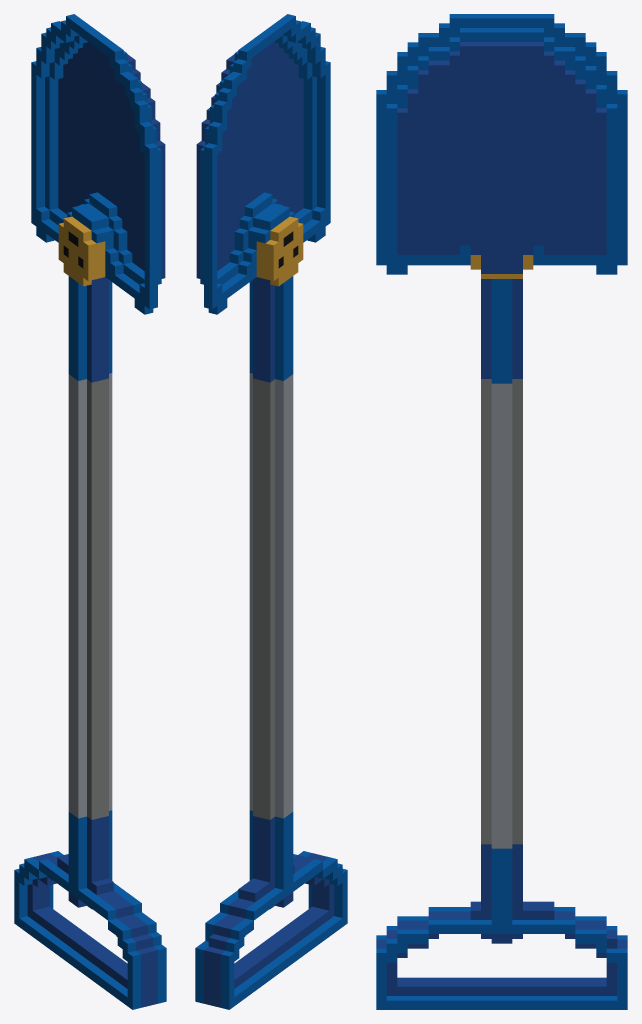
Rendered from shovel_1.3.obj.
3 views of the same model, side by side, from view 1: azimuth 30°, elevation 25°; view 2: azimuth 150°, elevation 25°; view 3: azimuth 270°, elevation 25° (orthographic). The views are drawn at different scales.
Parts seen in each view (by area): view 1: Untitled; view 2: Untitled; view 3: Untitled.
Part boxes in pixels (x1,y1,x2,y2): Untitled: (14,14,166,1009); Untitled: (195,14,347,1009); Untitled: (376,14,627,1009).
Size of the model in its own units: 0.5 by 10.4 by 2.4.
1 material, 1 textured.
